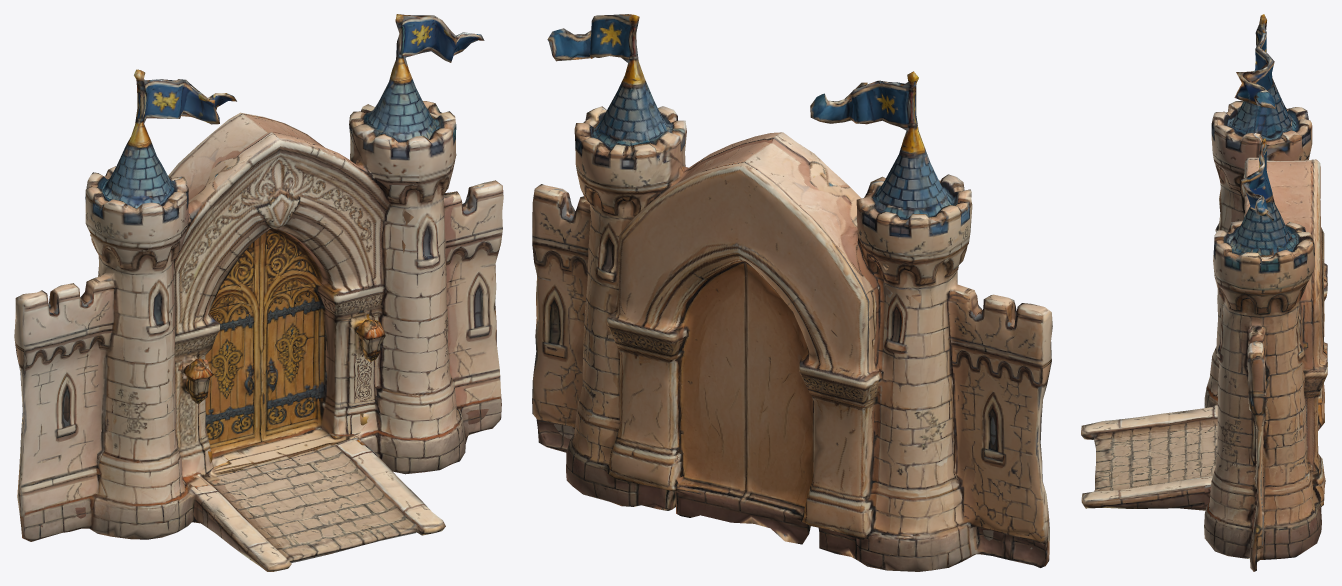
The model's file is 롯데_정문게이트.glb.
3 renders of one model, left to right at view 1: azimuth 30°, elevation 25°; view 2: azimuth 150°, elevation 25°; view 3: azimuth 270°, elevation 25°, orthographic. The views are drawn at different scales.
Parts seen in each view (by area): view 1: texture_mapping; view 2: texture_mapping; view 3: texture_mapping.
Part boxes in pixels (x1,y1,x2,y2): texture_mapping: [14, 14, 503, 571]; texture_mapping: [532, 14, 1052, 571]; texture_mapping: [1081, 14, 1327, 571].
Bounding box in the file's own units: 1 × 0.8875 × 0.488.
Materials: 1 (1 with a texture image).
